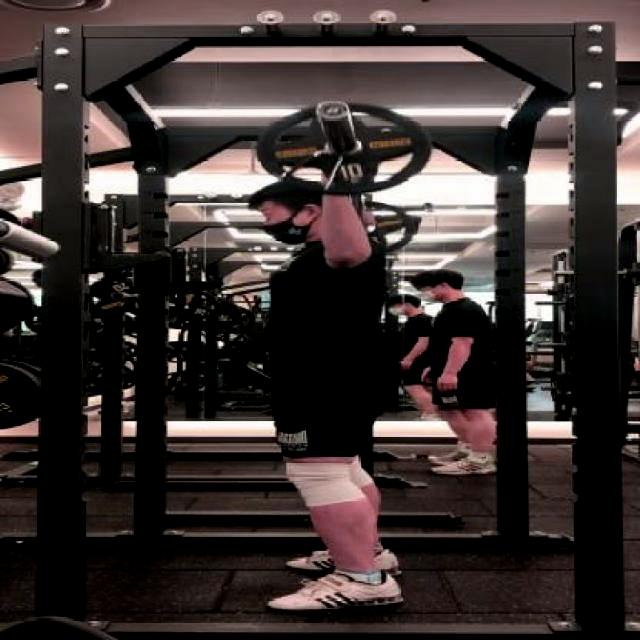barbell: (247, 93, 439, 200)
